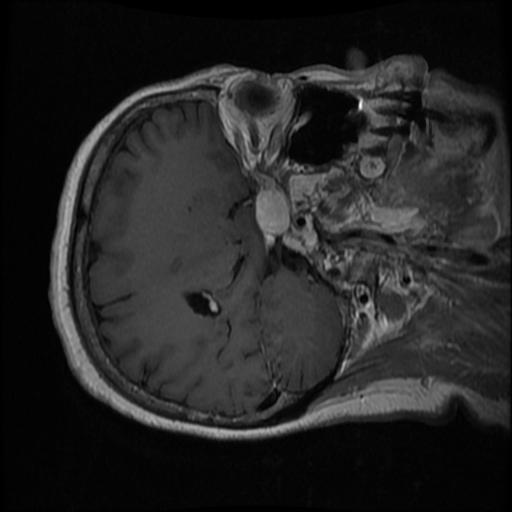meningioma: (254, 183, 291, 238)
